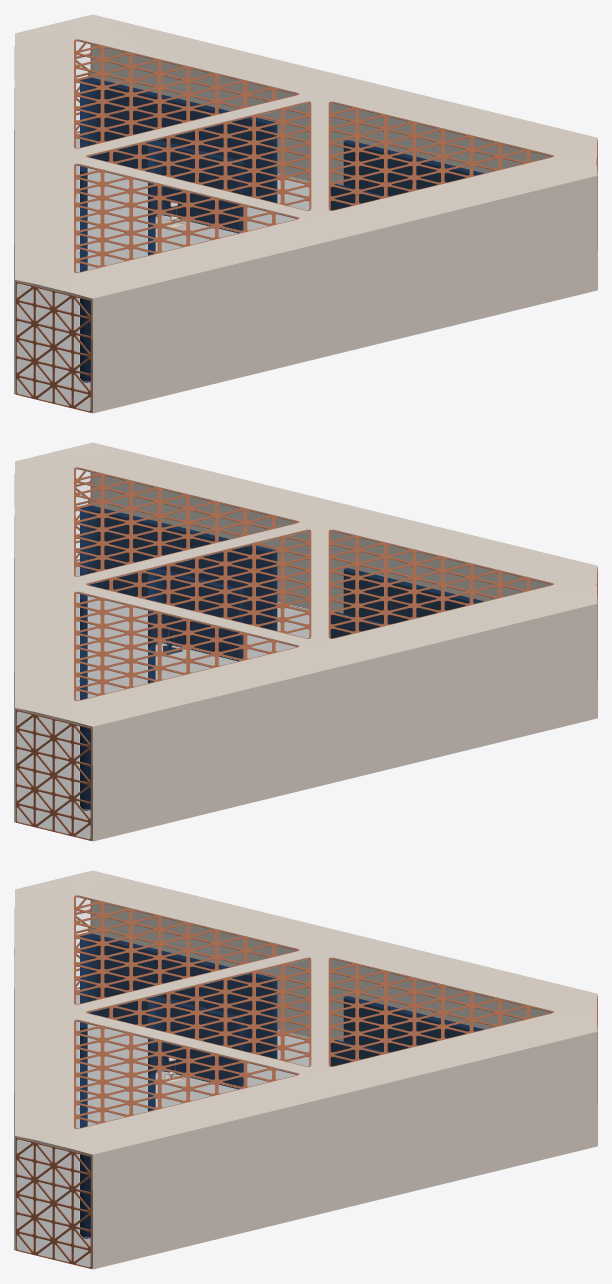
The model's file is VRGalleryFloor0110Merge.gltf.
3 views of the same model, one above another, from view 1: azimuth 30°, elevation 25°; view 2: azimuth 150°, elevation 25°; view 3: azimuth 270°, elevation 25° (orthographic).
Parts seen in each view (by area): view 1: Outer_wall, Windows, Inner_walls, Floor; view 2: Outer_wall, Windows, Inner_walls, Floor; view 3: Outer_wall, Windows, Inner_walls, Floor.
Boxes of the visible parts, box(x1,y1,x2,y2) form: Outer_wall: box(14, 14, 597, 413); Windows: box(15, 39, 597, 412); Inner_walls: box(79, 77, 483, 382); Floor: box(17, 132, 309, 410); Outer_wall: box(14, 442, 597, 841); Windows: box(15, 467, 597, 840); Inner_walls: box(79, 505, 483, 810); Floor: box(17, 560, 309, 838); Outer_wall: box(14, 870, 597, 1269); Windows: box(15, 895, 597, 1268); Inner_walls: box(79, 933, 483, 1238); Floor: box(17, 988, 309, 1266).
Bounding box in the file's own units: 22.36 × 4.2 × 19.37.
